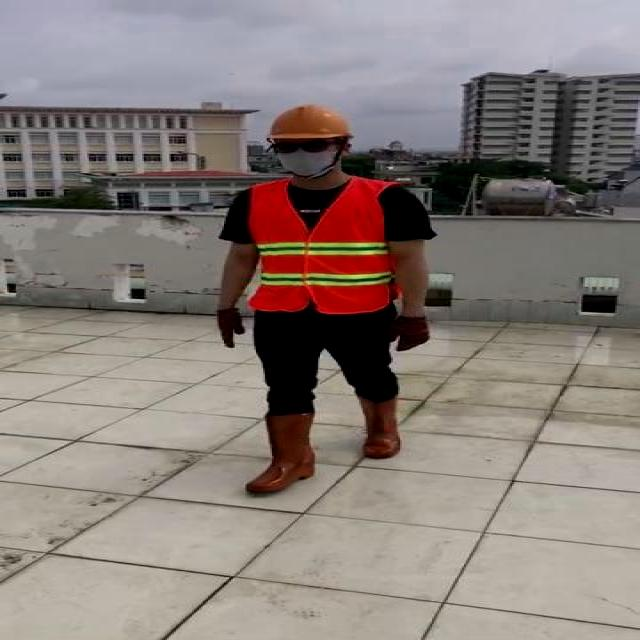boots: (245, 412, 320, 493), (359, 391, 404, 460)
face_mask: (275, 136, 337, 176)
glasses: (270, 136, 334, 156)
hand_glove: (380, 317, 430, 353), (217, 308, 247, 349)
head_helmet: (266, 102, 354, 141)
person: (208, 100, 441, 502)
vest: (249, 180, 400, 313)
